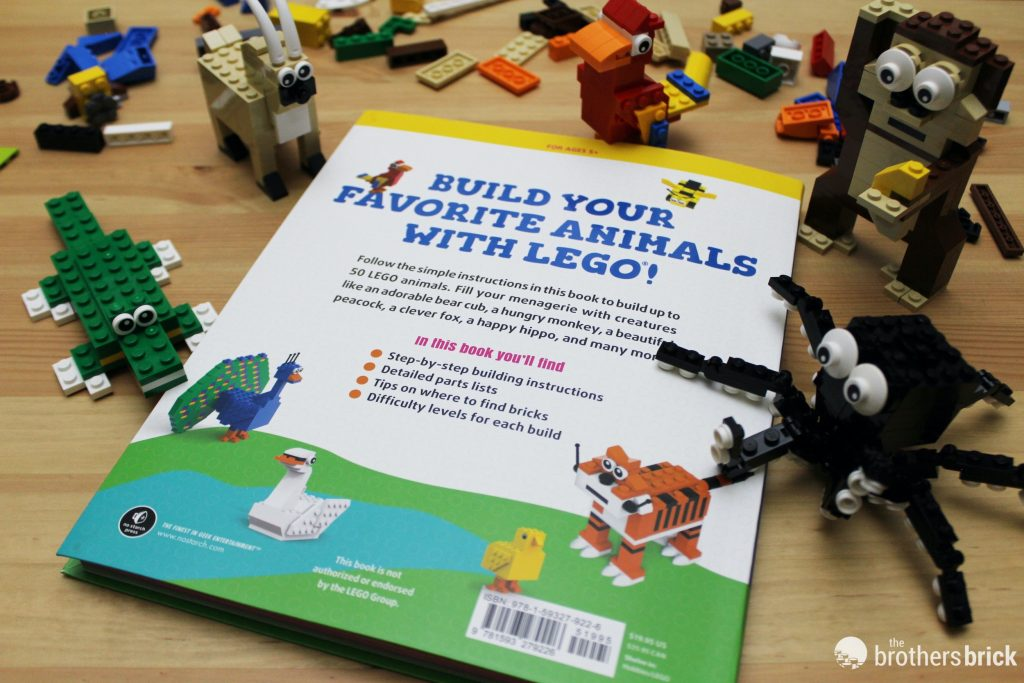barcode: (477, 585, 620, 675)
